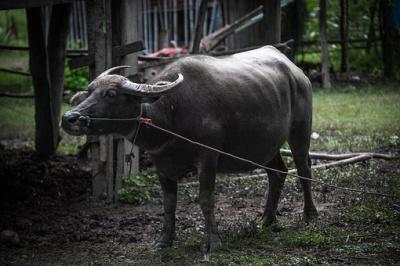buffalo: (62, 46, 316, 251)
